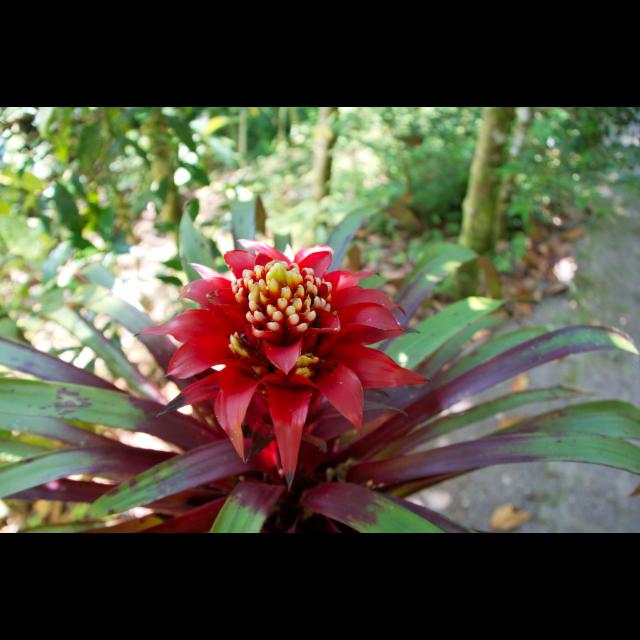Flower: (134, 236, 426, 487)
